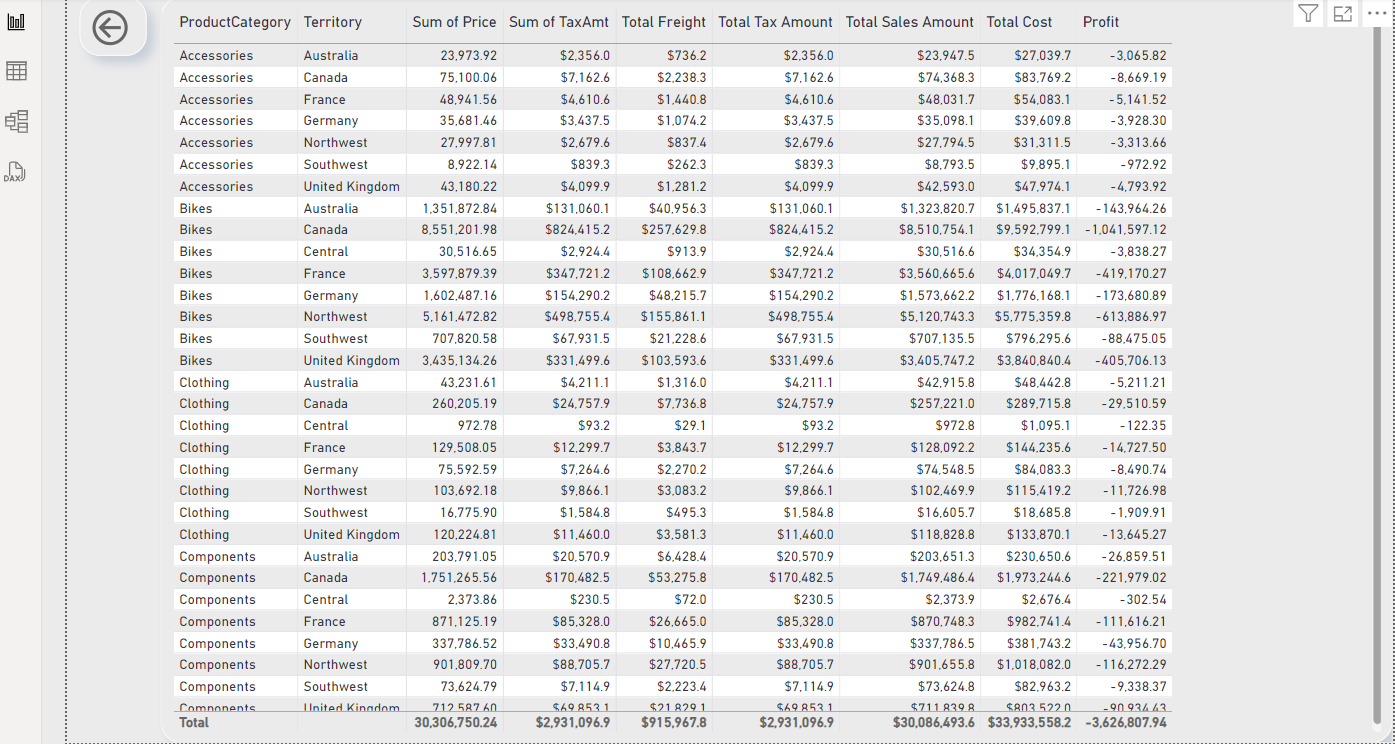

Layout of this report page (visuals, bound fields, positions):
{"tool":"powerbi","page":{"name":"Finance Table","canvas":[1280,720],"ordinal":3},"visuals":[{"type":"tableEx","fields":{"Values":["DimProduct.Product Hierarchy.ProductCategory","DimTerritory.Territory","Sum(FactSales.Price)","Sum(FactSales.TaxAmt)","FactSales.Total Freight","FactSales.Total Tax Amount","FactSales.Total Sales Amount","FactSales.Total Cost","FactSales.Profit"]},"box":[90.5,0,1189.1,720],"z":0},{"type":"actionButton","box":[12.1,0,65.1,56.7],"z":1000}]}

Visuals, with their boxes on the page's 1280x720 design canvas (x1, y1, x2, y2). These are canvas units, not pixel positions in the 1395x744 screenshot, which may show the page scaled, cropped or inside an application window:
tableEx - DimProduct.Product Hierarchy.ProductCategory x DimTerritory.Territory: [left=90, top=0, right=1280, bottom=720]
actionButton: [left=12, top=0, right=77, bottom=57]
